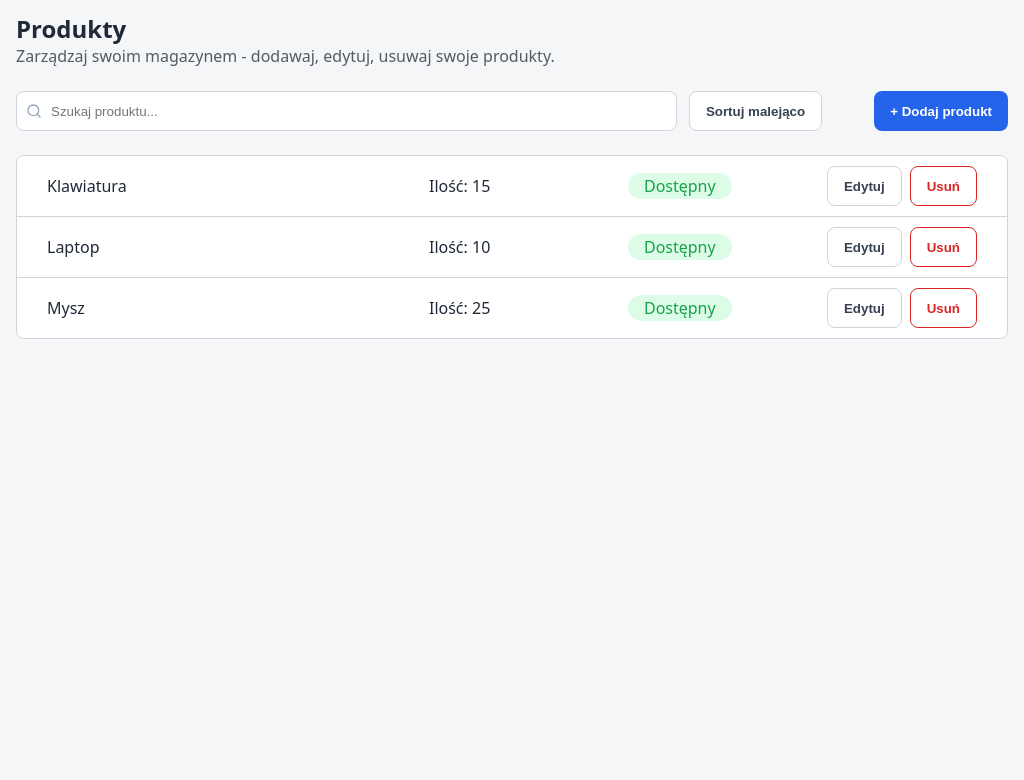
Test: adds a new product
The image size is (1024, 780).
Click the button "+ Dodaj produkt". click: (941, 111)
box: [874, 91, 1008, 131]
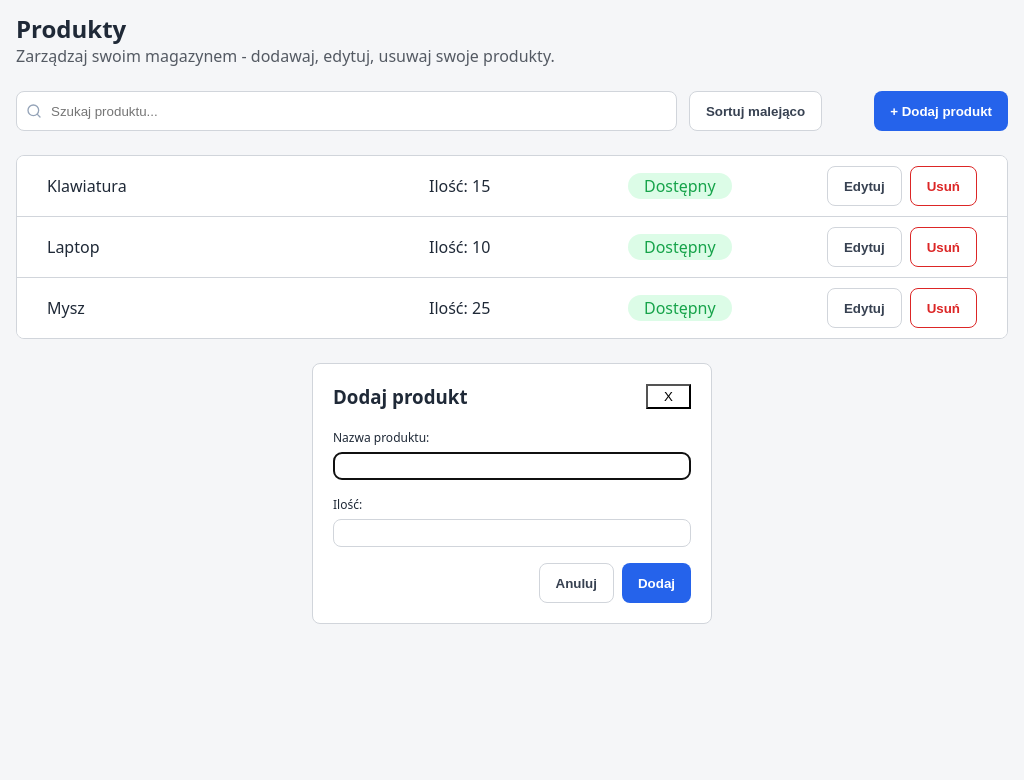
Type "Monitor" into the field labelled "Nazwa produktu:". click: (512, 466)
box: [333, 452, 691, 480]
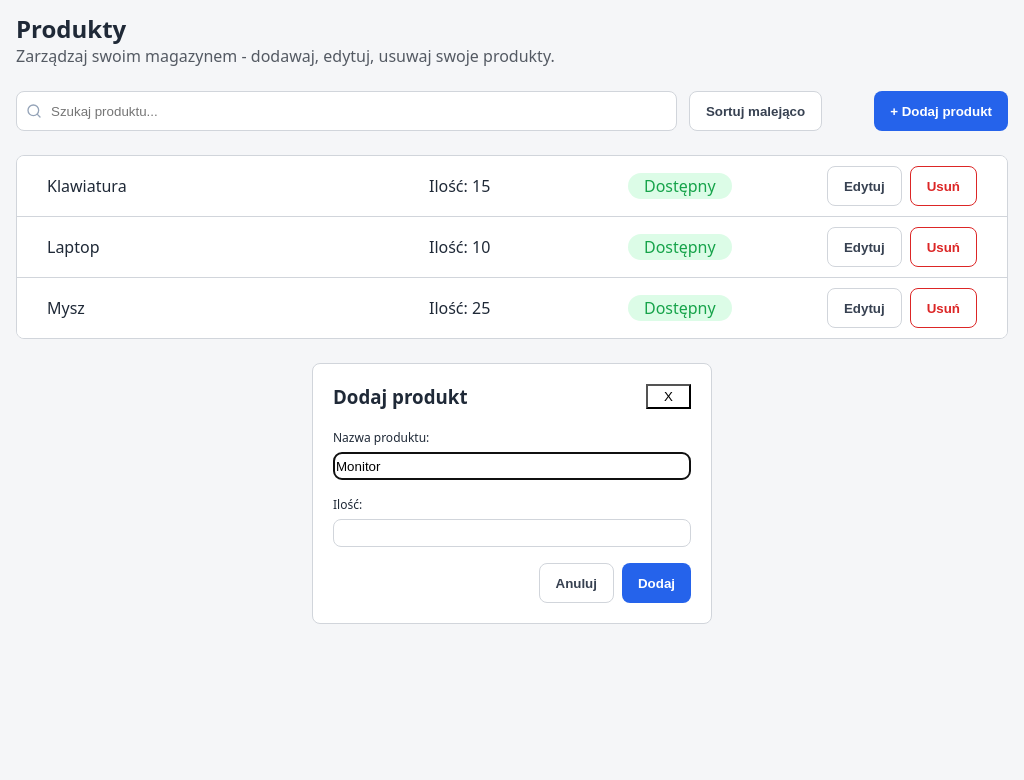
Type "11" into the number field labelled "Ilość:". click: (512, 533)
box: [333, 519, 691, 547]
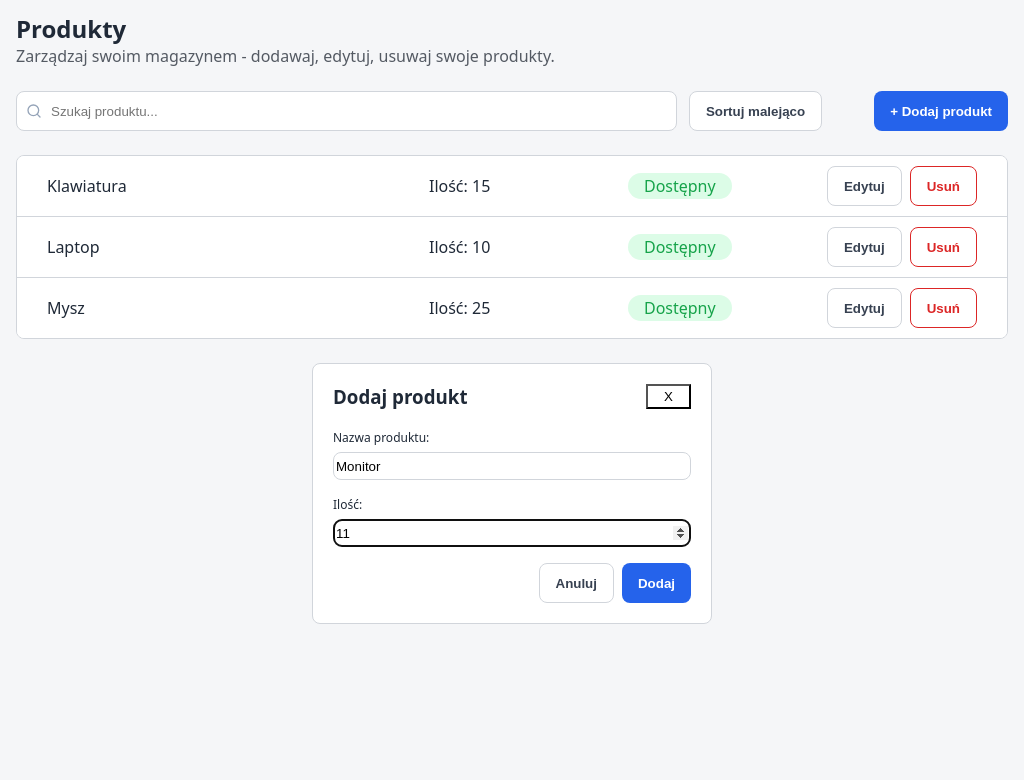
Click the button "Dodaj". click: (656, 583)
box: [622, 563, 691, 603]
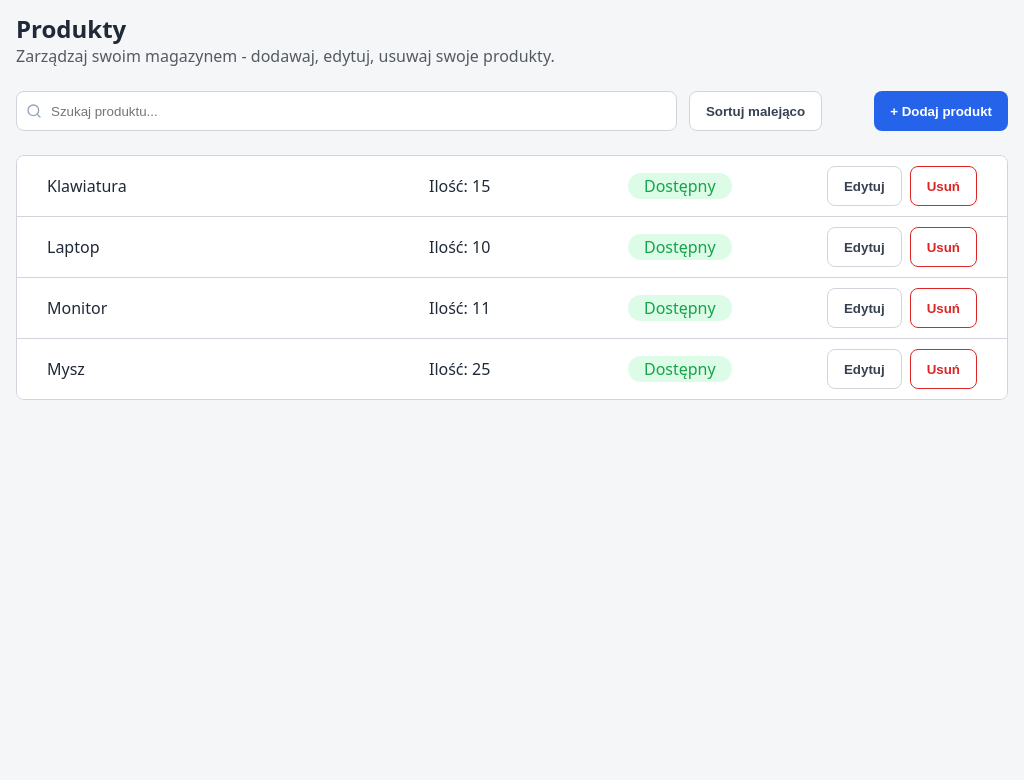
Expected: the text "Monitor" is shown, [47, 297, 107, 319]
